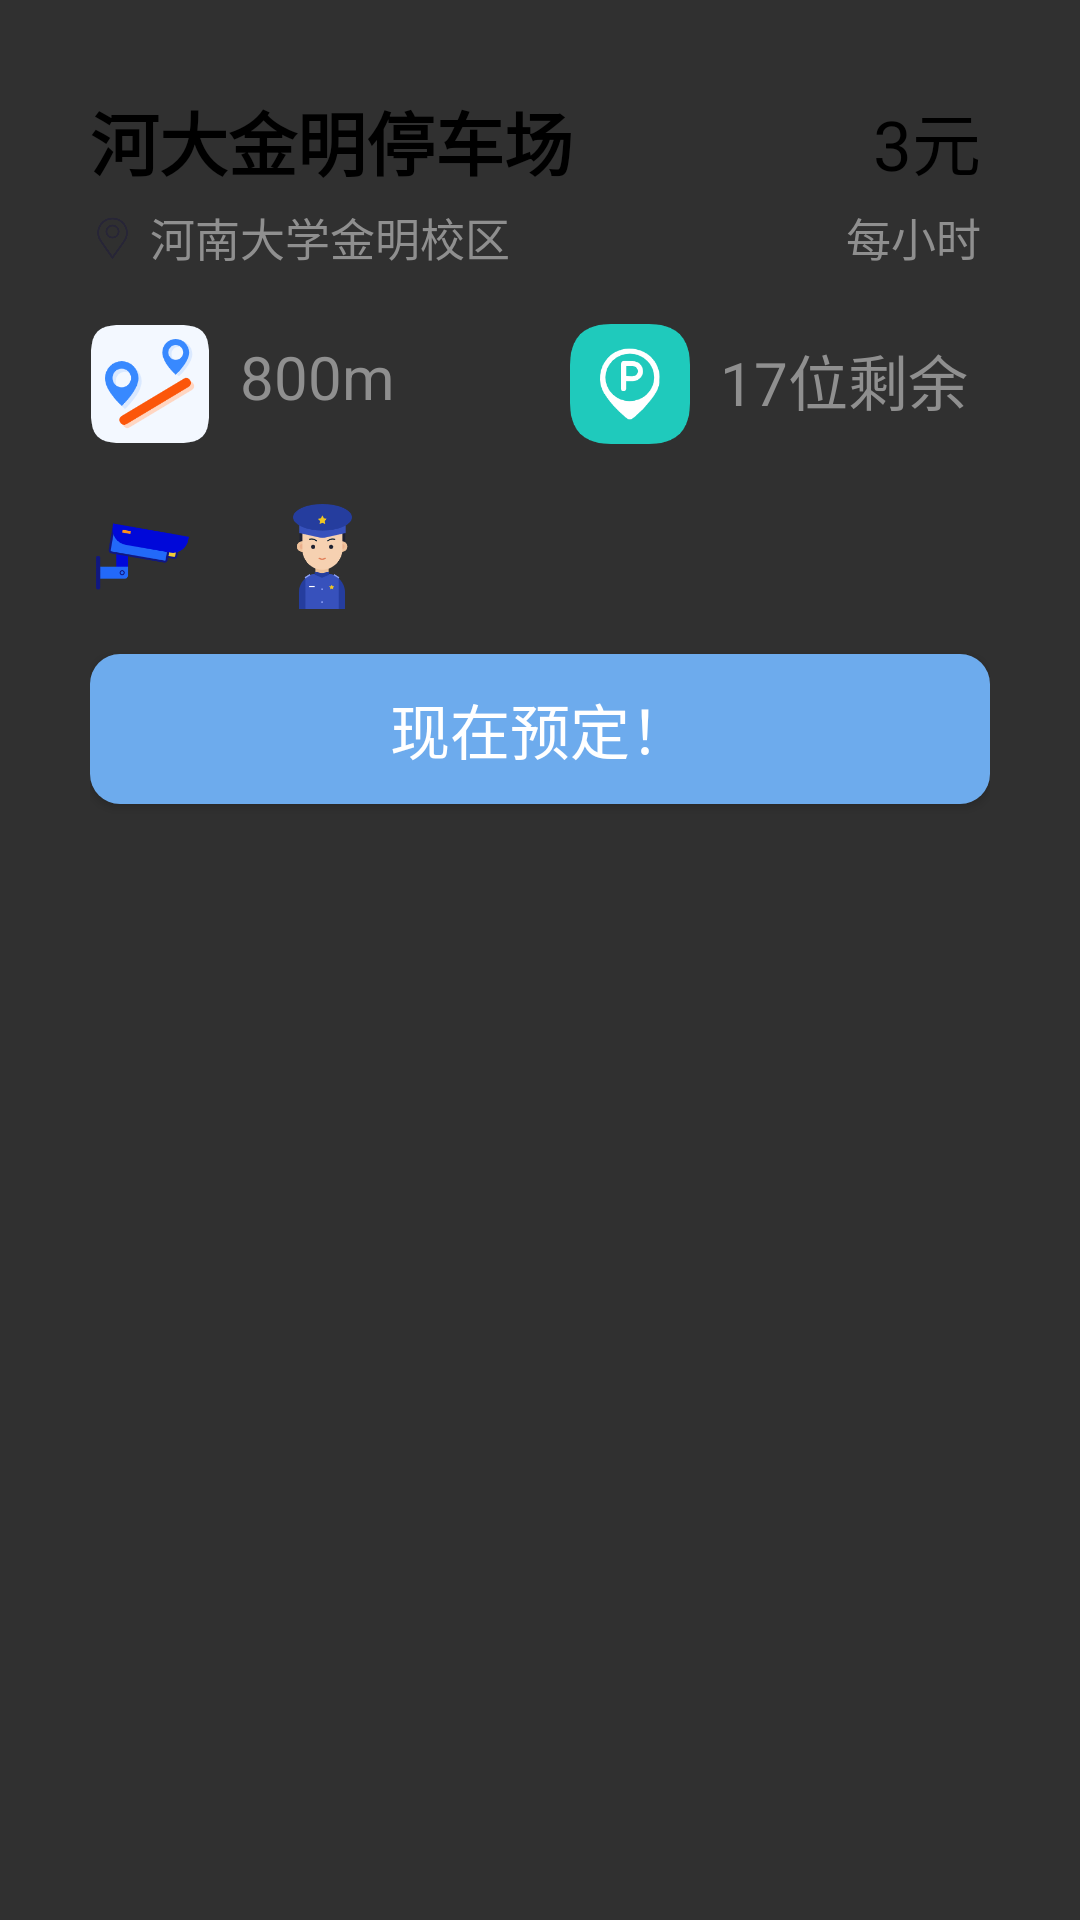

Named icons in this screenshot (1080 x 1920) and their centers, (x,y):
distance: (150,384)
monitoricon: (142,556)
parkingicon: (630,384)
policeicon: (322,556)
